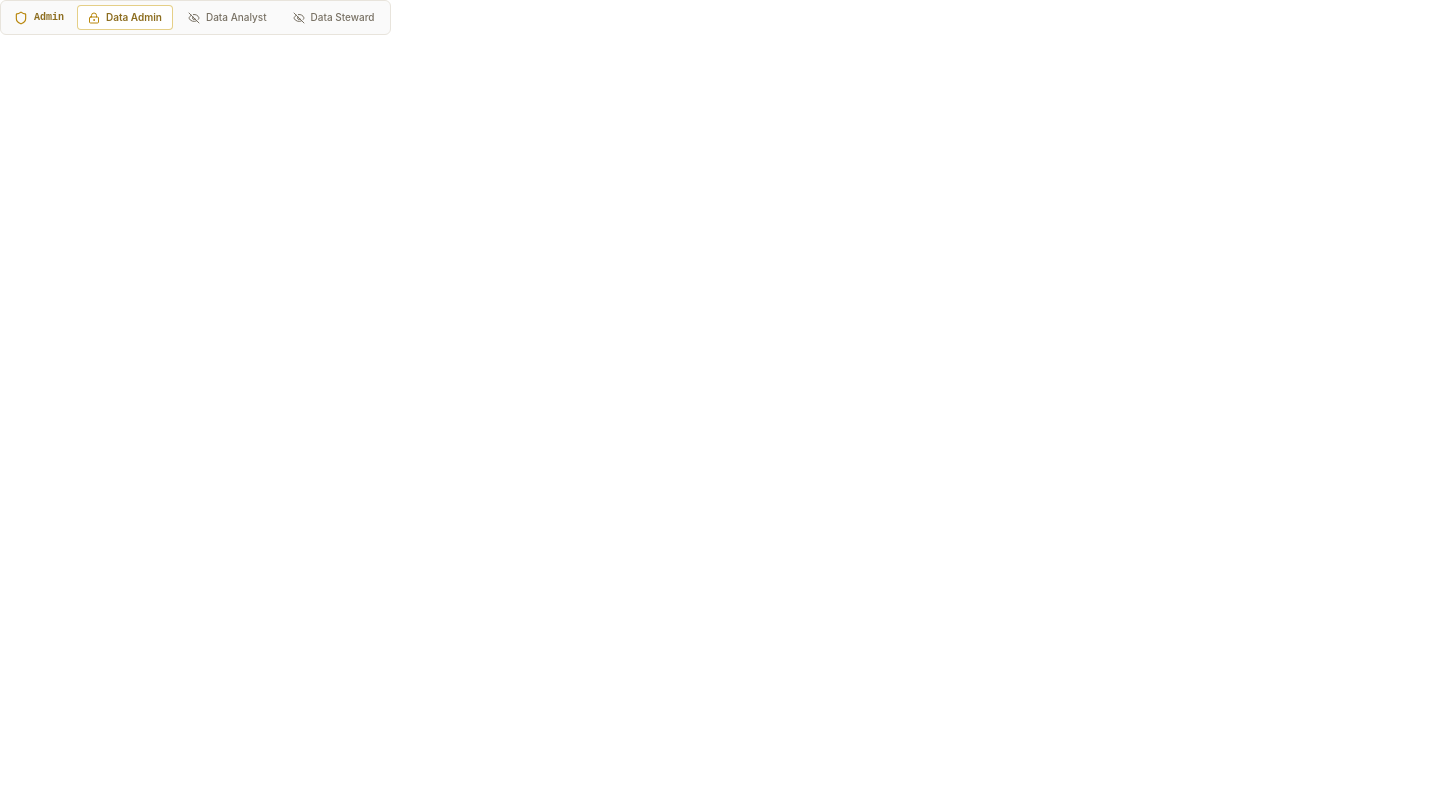
Test: ZeroTrustLens — Interactive Role Switcher & Security Governance (HU-FRONT-05) › 6b. Abre el modal de Zero-Trust desde el Header al hacer clic en el botón de visibilidad
Click the button with test id "open-zero-trust-modal". click: (39, 18)
box: x1=5 y1=5 x2=73 y2=30
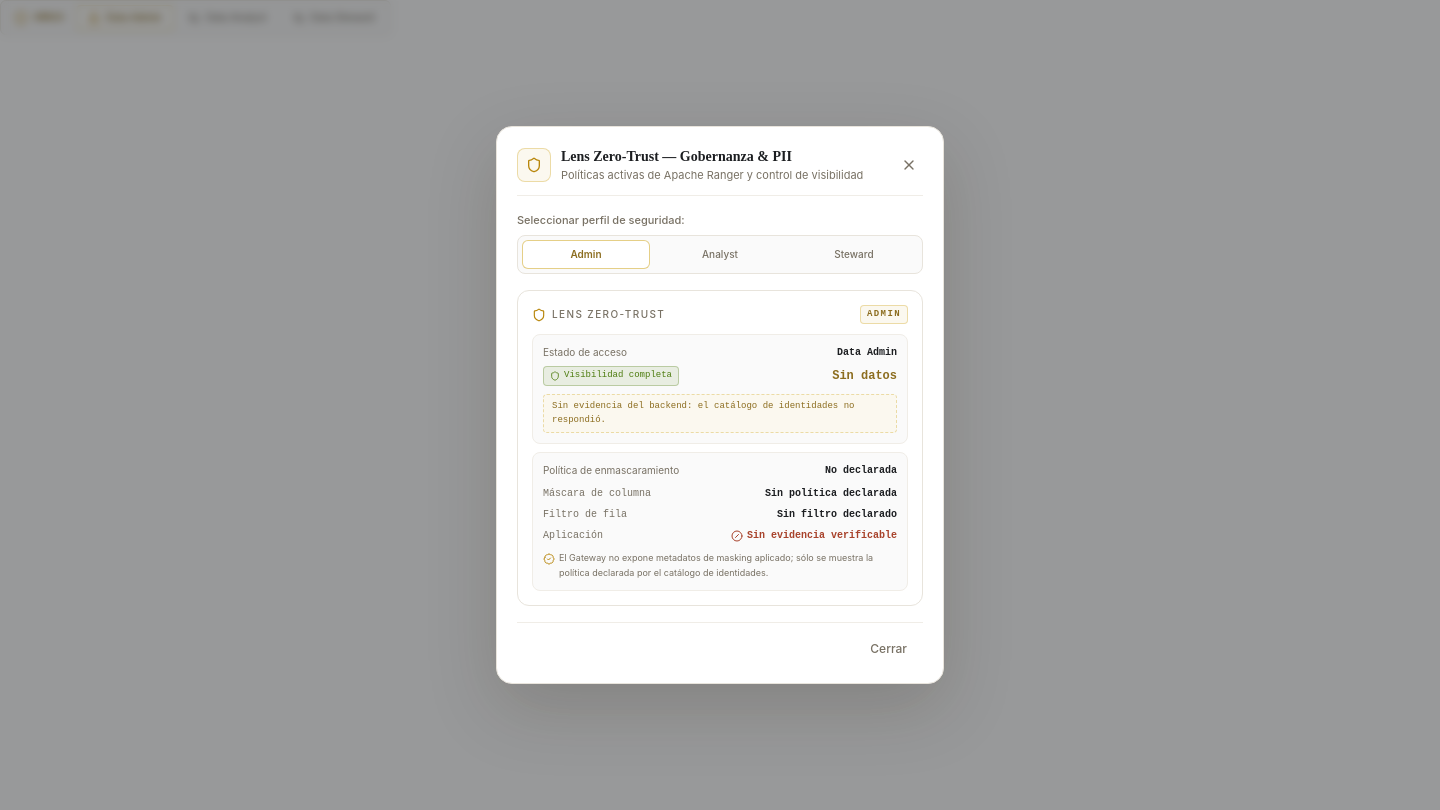
Expected: the dialog is shown
Expected: the heading "Lens Zero-Trust — Gobernanza & PII" is shown, x1=561 y1=149 x2=792 y2=164
Expected: the element with test id "zero-trust-lens-preview" is shown, x1=517 y1=290 x2=923 y2=606
Cierra con el botón cerrar
Click the button named "Cerrar modal". click: (909, 165)
box: x1=895 y1=151 x2=923 y2=179
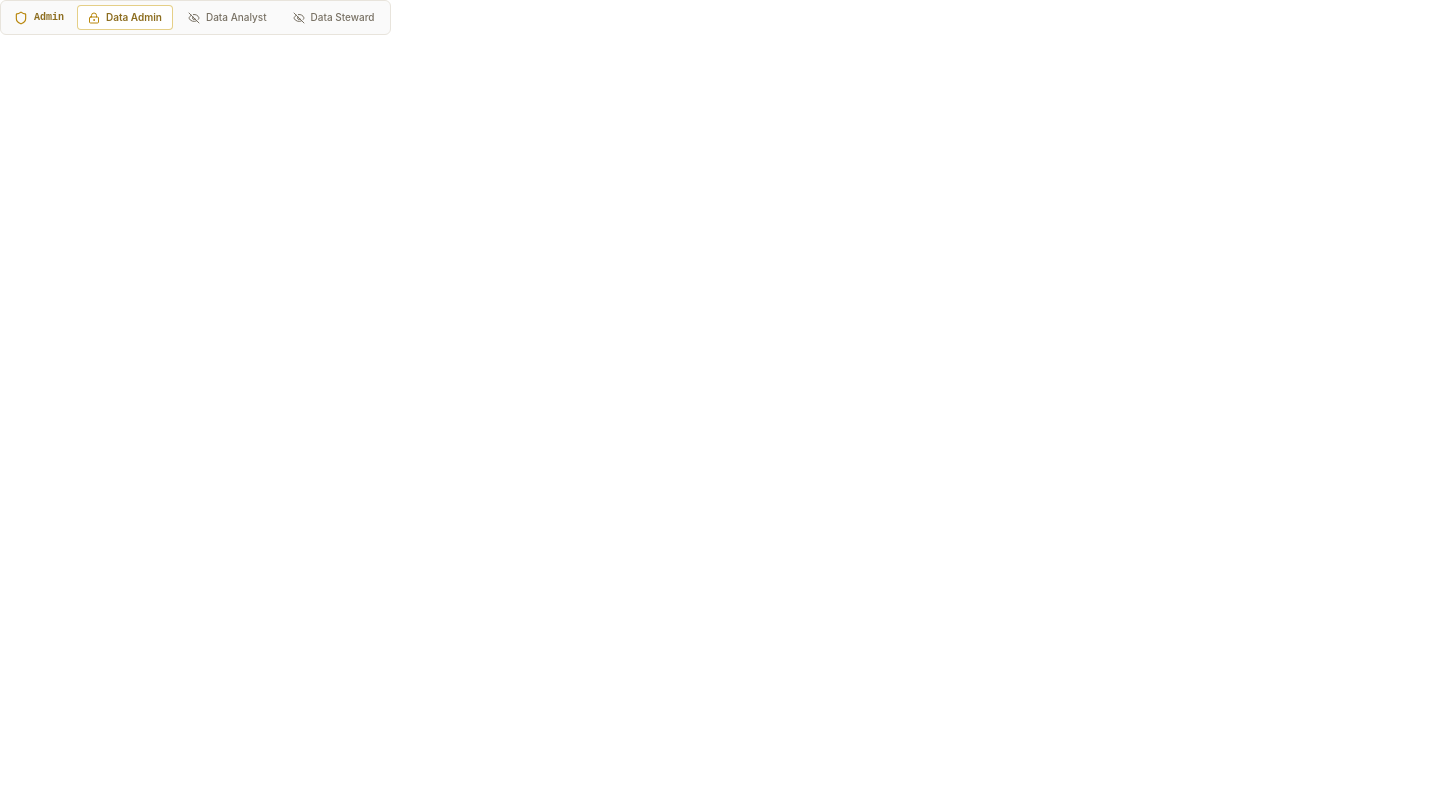
Expected: the dialog is gone
